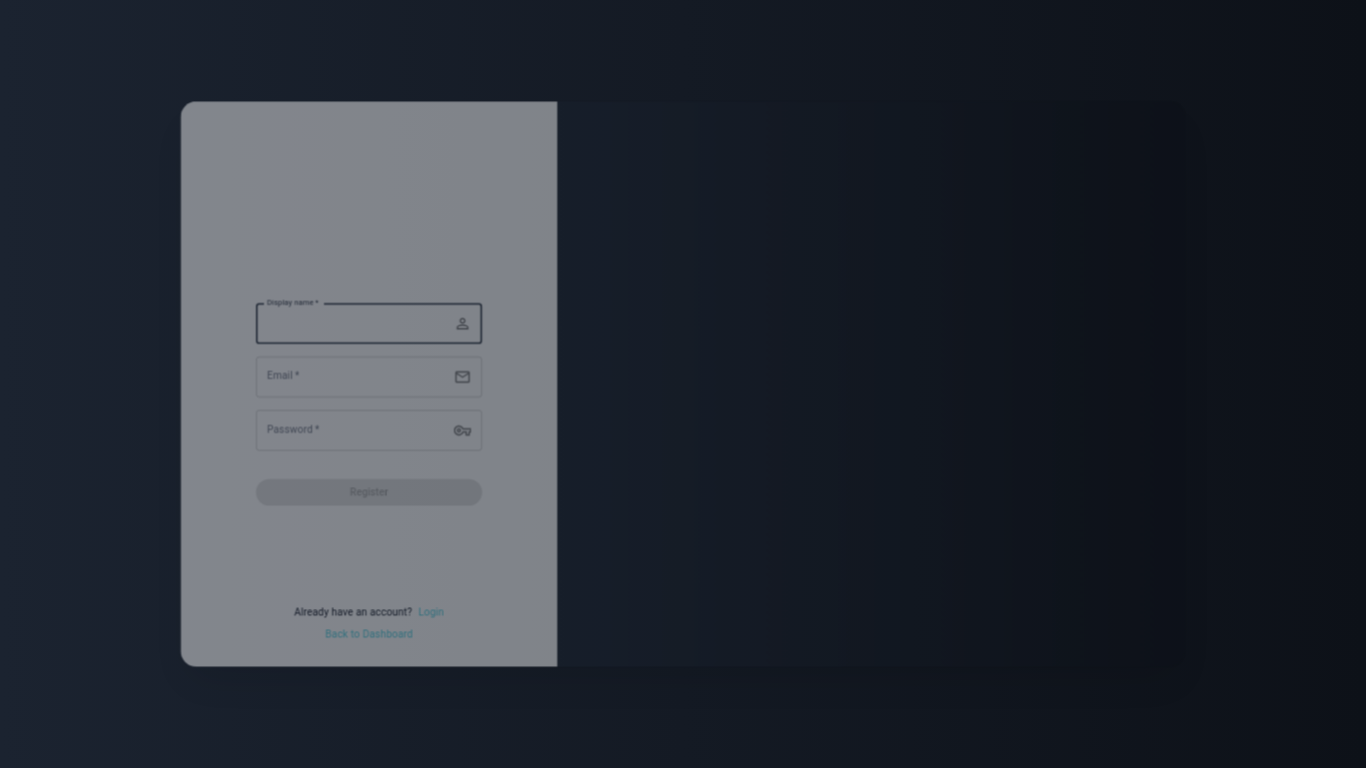
Test: <RegisterPage /> › displays username validation errors
This screenshot has width=1366, height=768.
In the field labelled "Display name *": (352, 324) [256,304,447,344], type "To"
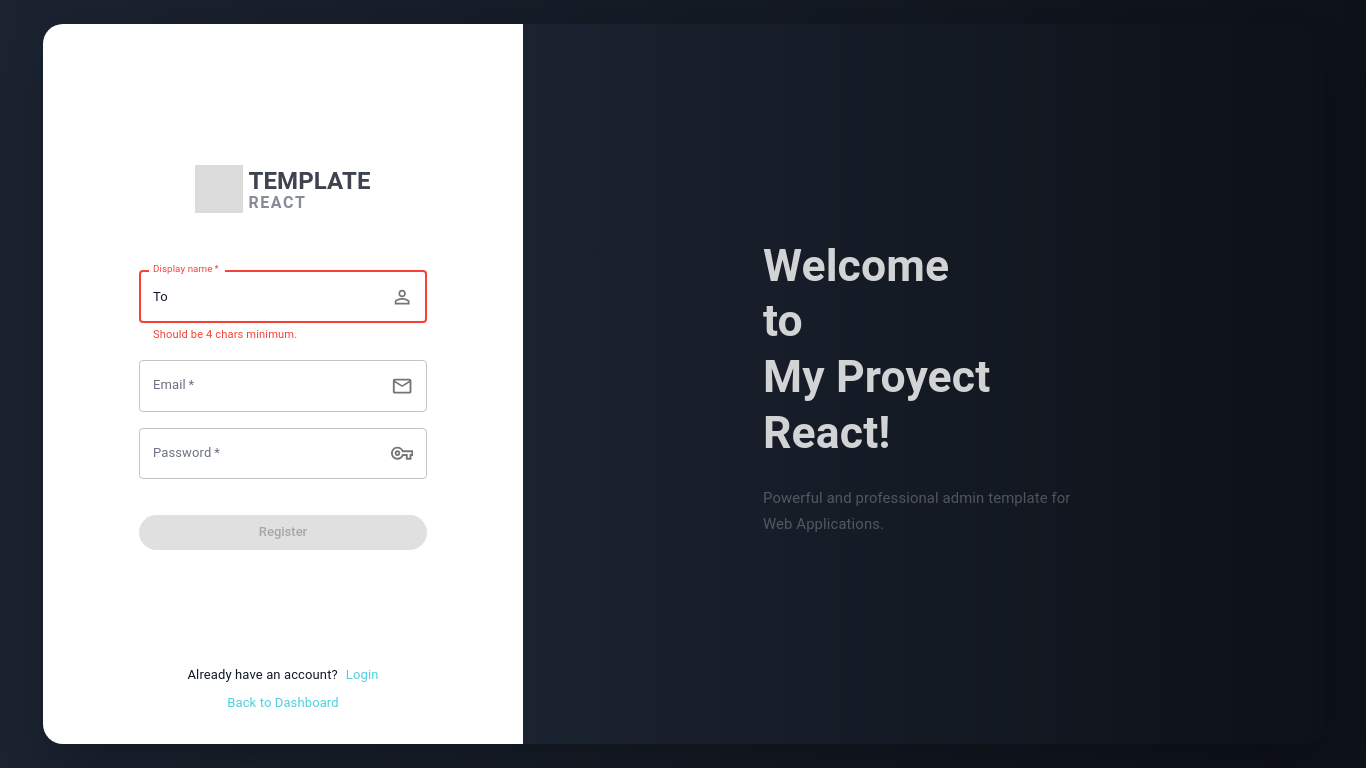
Now the text "Should be 4 chars minimum." is shown, box [153,328,297,340]
In the field labelled "Display name *": (261, 297) [139,271,383,322], type "Tfdfdfdfffffffffffffffffffffffffdfdfdfffffffffffffo"
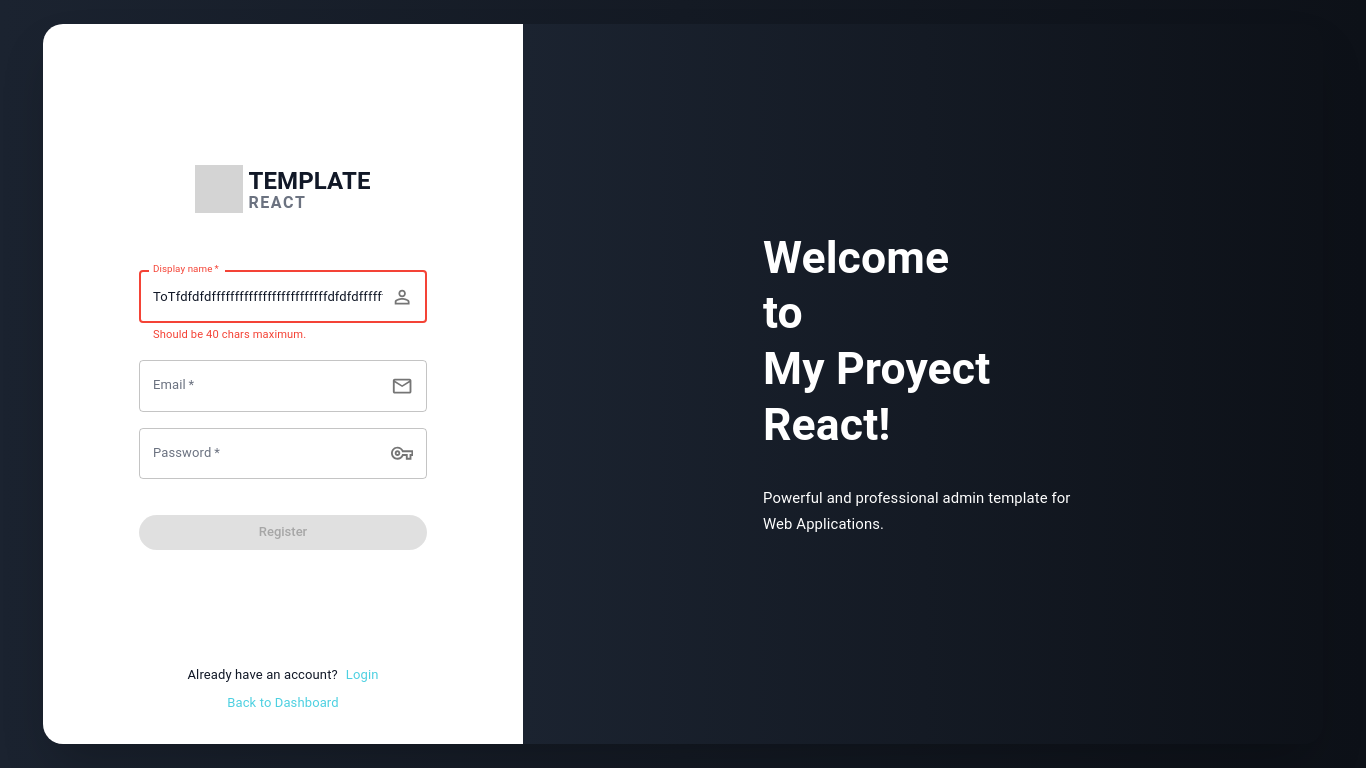
Now the text "Should be 40 chars maximum." is shown, box [153,328,306,340]
Clear the field labelled "Display name *": (261, 297) [139,271,383,322]
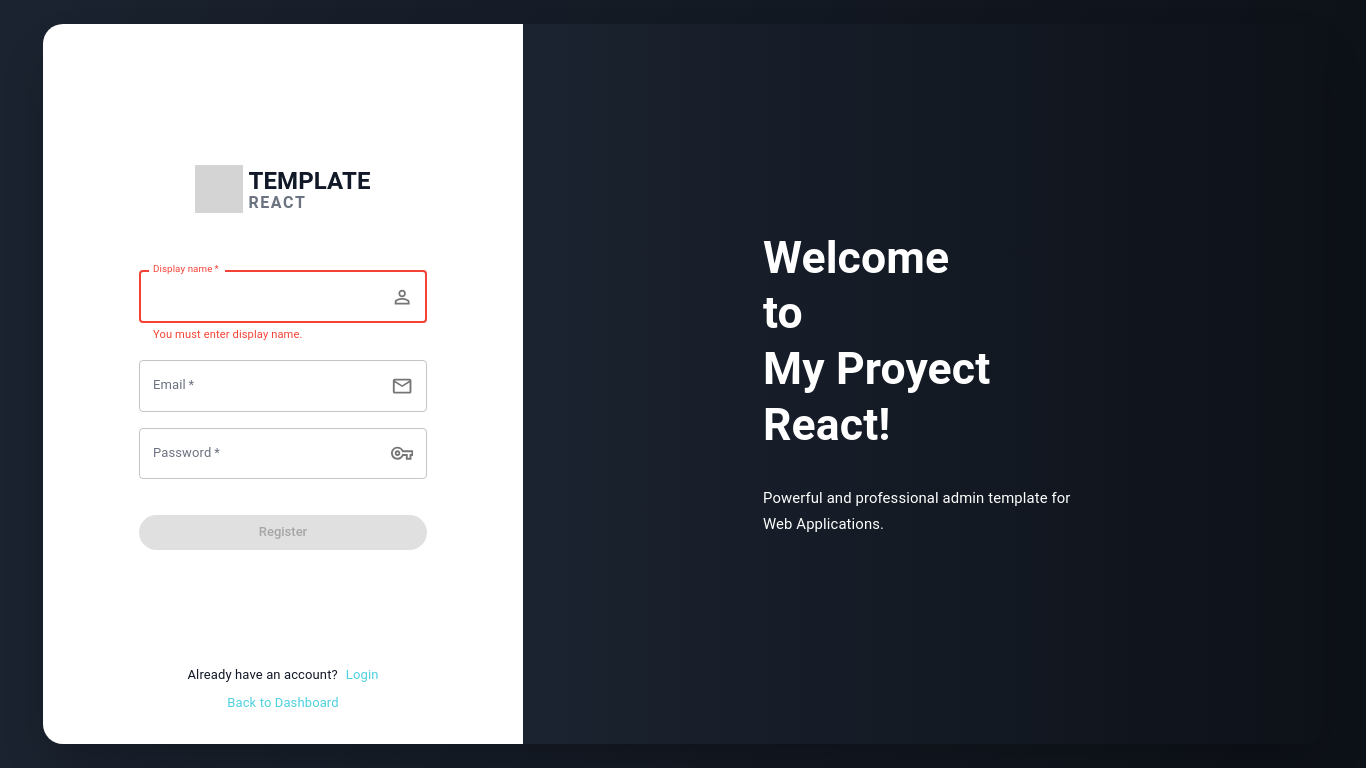
Now the text "You must enter display name." is shown, box [153,328,303,340]
